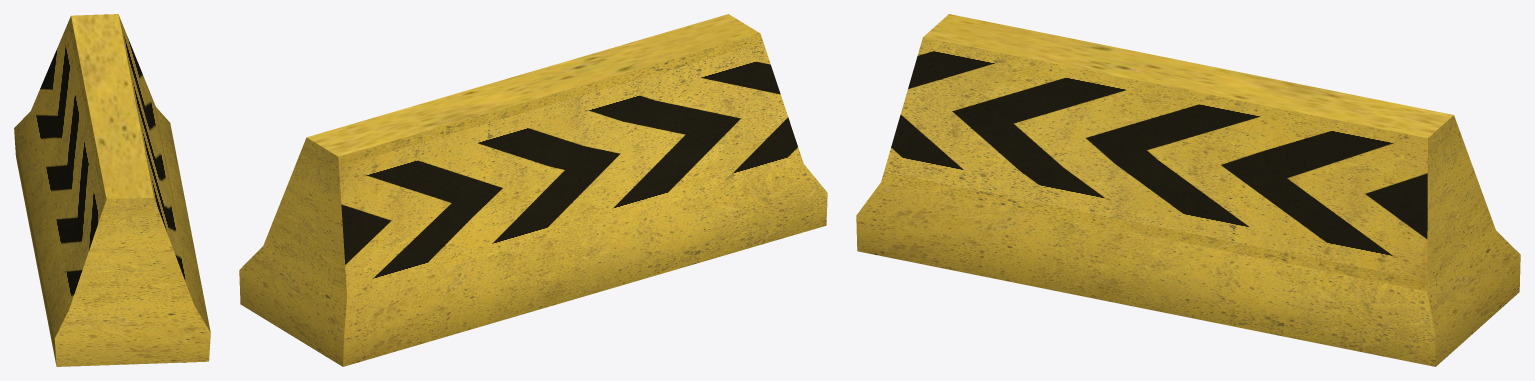
Rendered from barrier.fbx.
3 views of the same model, side by side, from view 1: azimuth 30°, elevation 25°; view 2: azimuth 150°, elevation 25°; view 3: azimuth 270°, elevation 25° (orthographic). The views are drawn at different scales.
Parts seen in each view (by area): view 1: Barrier19; view 2: Barrier19; view 3: Barrier19.
Boxes of the visible parts, bbox=[...] form: Barrier19: bbox=[14, 14, 210, 366]; Barrier19: bbox=[239, 14, 827, 366]; Barrier19: bbox=[856, 14, 1520, 366].
Bounding box in the file's own units: 510 × 242 × 744.
